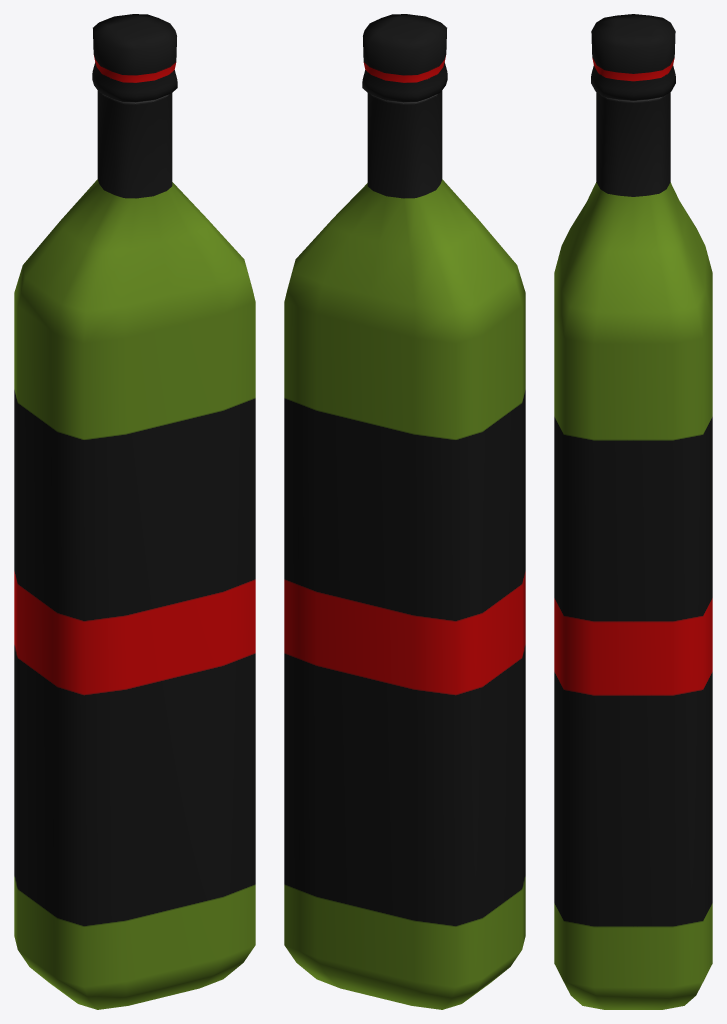
File: Olive_Oil_Solid_MDL.fbx
3 renders of one model, left to right at view 1: azimuth 30°, elevation 25°; view 2: azimuth 150°, elevation 25°; view 3: azimuth 270°, elevation 25°, orthographic.
Visible parts, largest first — view 1: olive_oil_solid; view 2: olive_oil_solid; view 3: olive_oil_solid.
Boxes of the visible parts, x1=… form: olive_oil_solid: x1=14, y1=14, x2=255, y2=1009; olive_oil_solid: x1=284, y1=14, x2=525, y2=1009; olive_oil_solid: x1=554, y1=14, x2=712, y2=1009.
Size of the model in its own units: 5.46 by 25.4 by 3.84.
